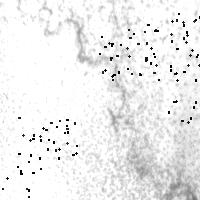pitted_surface: (55, 86, 199, 200), (23, 1, 180, 95), (17, 117, 76, 173), (99, 24, 158, 79), (168, 64, 200, 122), (170, 13, 200, 73), (0, 170, 28, 200)
